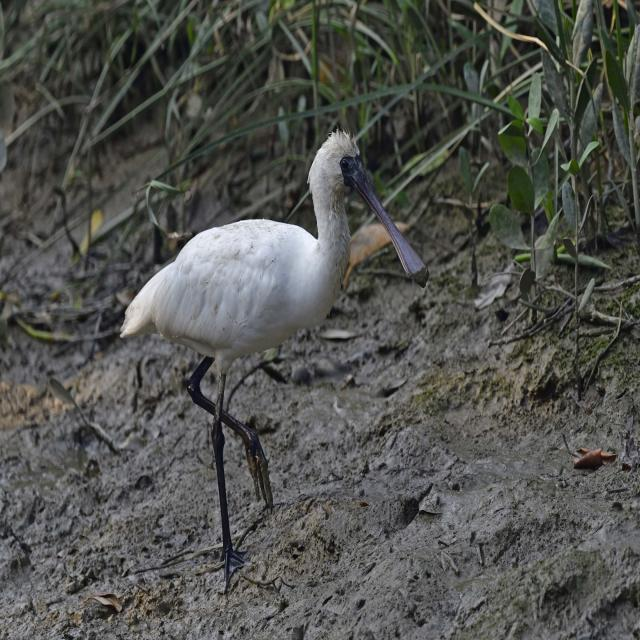Black-faced spoonbill: (121, 132, 428, 589)
